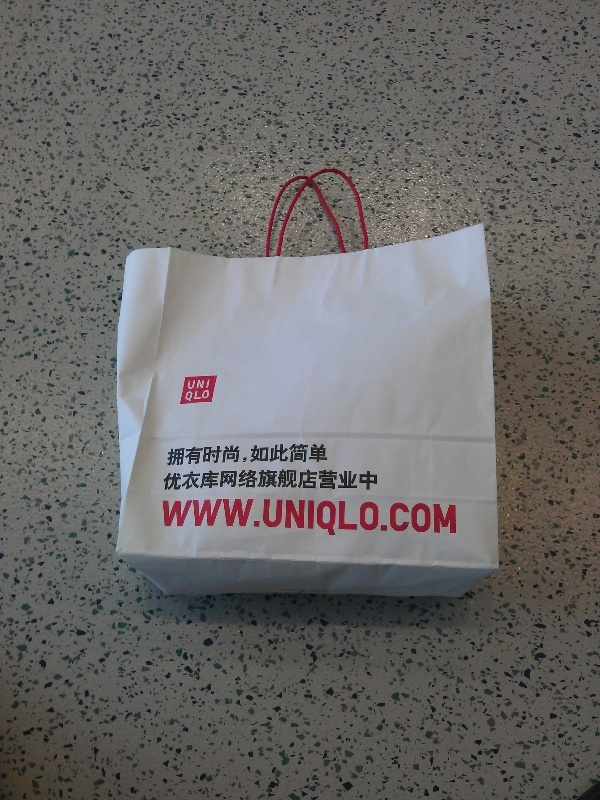text: (177, 499, 192, 535), (193, 499, 208, 535), (209, 499, 224, 535), (225, 499, 240, 535), (241, 499, 256, 535), (257, 499, 272, 535), (273, 499, 288, 535), (289, 499, 304, 535), (305, 499, 320, 535), (321, 499, 336, 535), (337, 499, 352, 535), (353, 499, 368, 535), (369, 499, 384, 535), (385, 499, 400, 535), (401, 499, 416, 535), (417, 499, 432, 535), (433, 499, 448, 535), (163, 499, 176, 535), (177, 444, 192, 467), (193, 444, 208, 467), (209, 444, 224, 467), (225, 444, 240, 467), (241, 444, 256, 467), (257, 444, 272, 467), (273, 444, 288, 467), (289, 444, 304, 467), (305, 444, 320, 467), (177, 469, 192, 490), (193, 469, 208, 490), (209, 469, 224, 490), (225, 469, 240, 490), (241, 469, 256, 490), (257, 469, 272, 490), (273, 469, 288, 490), (289, 469, 304, 490), (305, 469, 320, 490), (321, 469, 336, 490), (337, 469, 352, 490), (353, 469, 368, 490), (449, 499, 457, 535), (164, 469, 176, 490), (193, 389, 208, 403), (369, 469, 378, 490), (193, 379, 208, 390), (169, 444, 176, 467), (321, 444, 327, 467), (187, 389, 192, 403), (188, 379, 192, 390), (209, 379, 213, 390), (209, 389, 211, 403)
